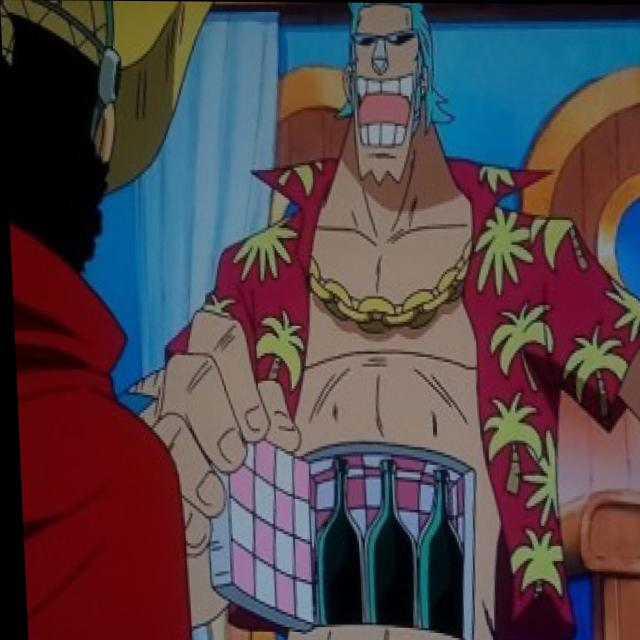Franky: (322, 2, 457, 199)
